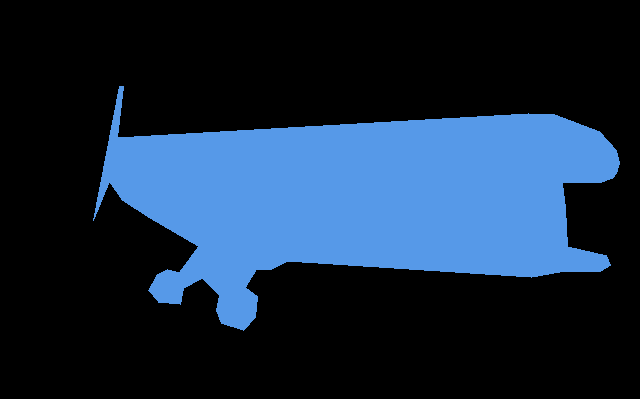Airplane: (93, 86, 620, 330)
